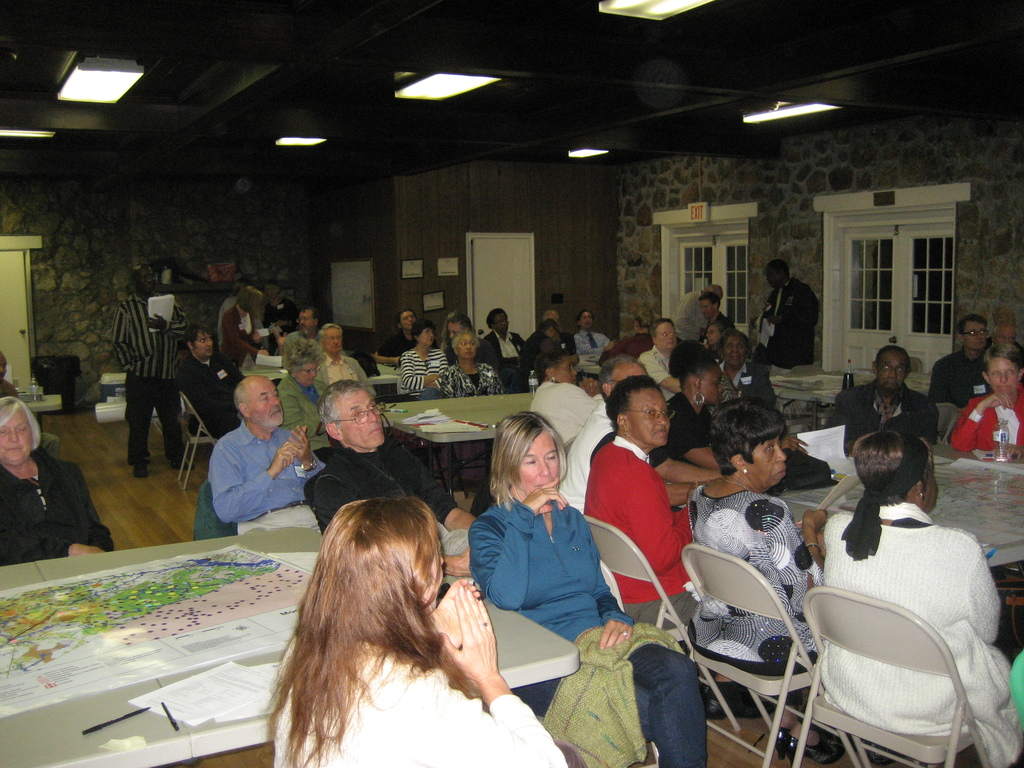Table: (38, 527, 577, 767), (773, 452, 1023, 584), (371, 387, 545, 493), (767, 360, 936, 438), (22, 392, 62, 436), (239, 365, 293, 383), (573, 349, 605, 376), (362, 369, 402, 390), (102, 373, 131, 386)
